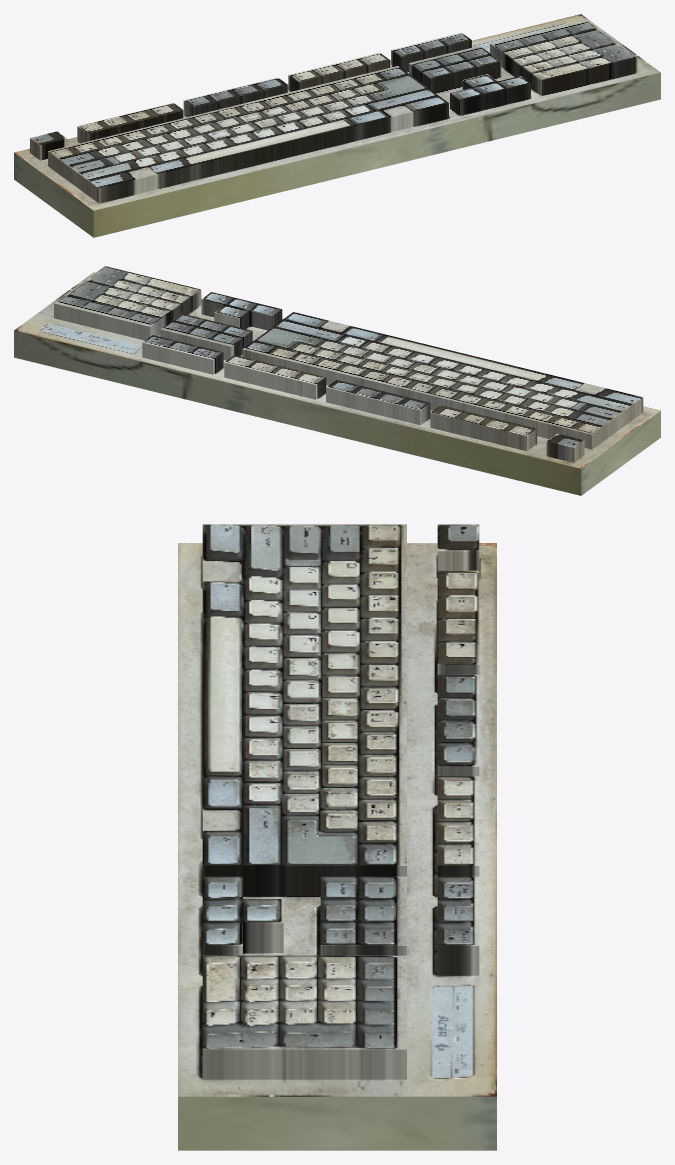
File: Keeb.glb
3 views of the same model, one above another, from view 1: azimuth 30°, elevation 25°; view 2: azimuth 150°, elevation 25°; view 3: azimuth 270°, elevation 25° (orthographic). The views are drawn at different scales.
Visible parts, largest first — view 1: Keeb; view 2: Keeb; view 3: Keeb.
Part boxes in pixels (bbox=[...]): Keeb: bbox=[14, 14, 660, 237]; Keeb: bbox=[14, 266, 660, 495]; Keeb: bbox=[178, 524, 496, 1150].
Size of the model in its own units: 1.04 by 0.0737 by 0.2538.
1 material, 1 textured.
